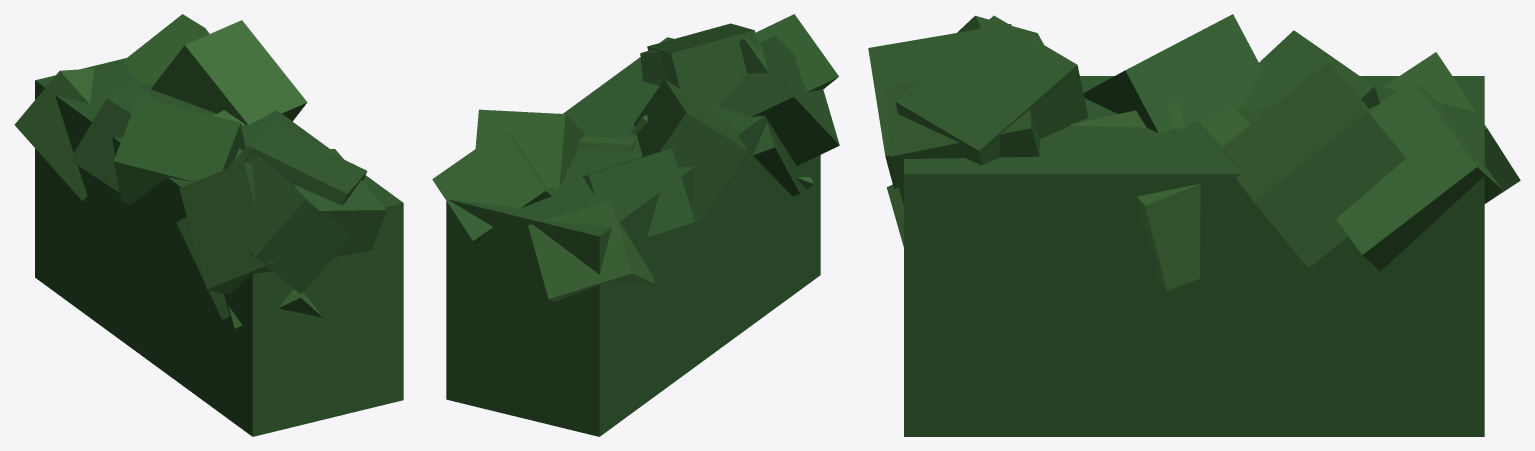
The model's file is hedge.glb.
The picture shows the model from 3 angles, left to right: view 1: azimuth 30°, elevation 25°; view 2: azimuth 150°, elevation 25°; view 3: azimuth 270°, elevation 25°; orthographic projection. The views are drawn at different scales.
Parts seen in each view (by area): view 1: hedge; view 2: hedge; view 3: hedge.
Boxes of the visible parts, left/top/right/bottom form: hedge: left=14, top=14, right=403, bottom=436; hedge: left=432, top=14, right=839, bottom=436; hedge: left=868, top=14, right=1520, bottom=436.
Bounding box in the file's own units: 1.17 × 1.31 × 2.25.
